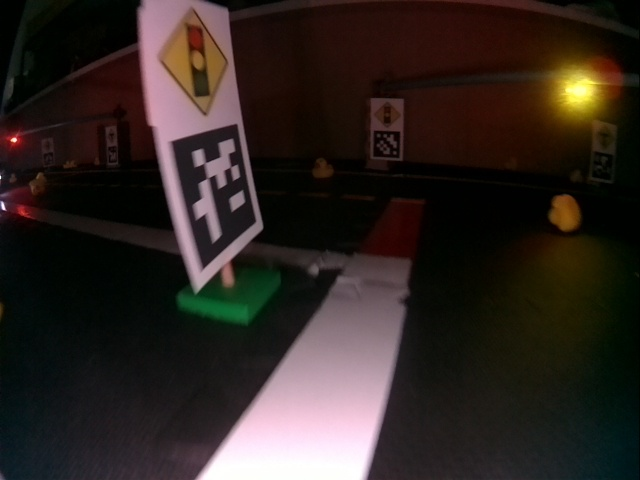Duckie: (549, 194, 581, 233)
Intersection sign: (595, 125, 617, 148)
QR code: (171, 129, 258, 275), (373, 129, 401, 158), (591, 150, 612, 181)
Signal sign: (159, 9, 229, 119), (374, 100, 399, 128)
Traffic light: (566, 70, 594, 105)
